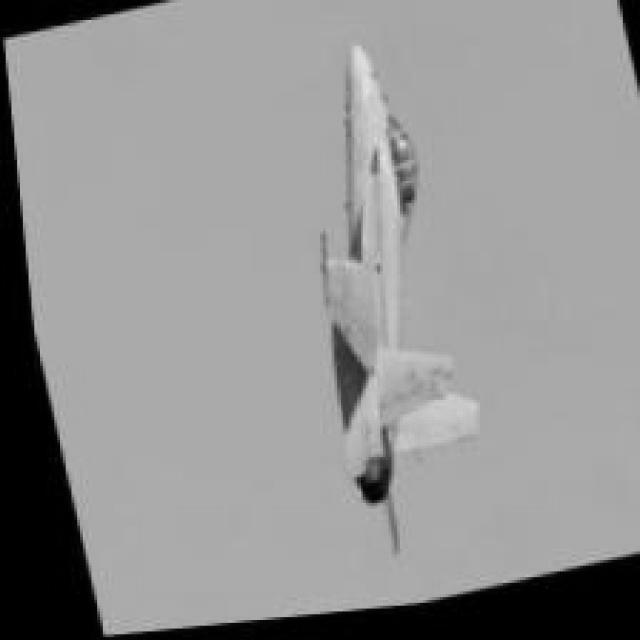aeroplane: (234, 26, 509, 574)
